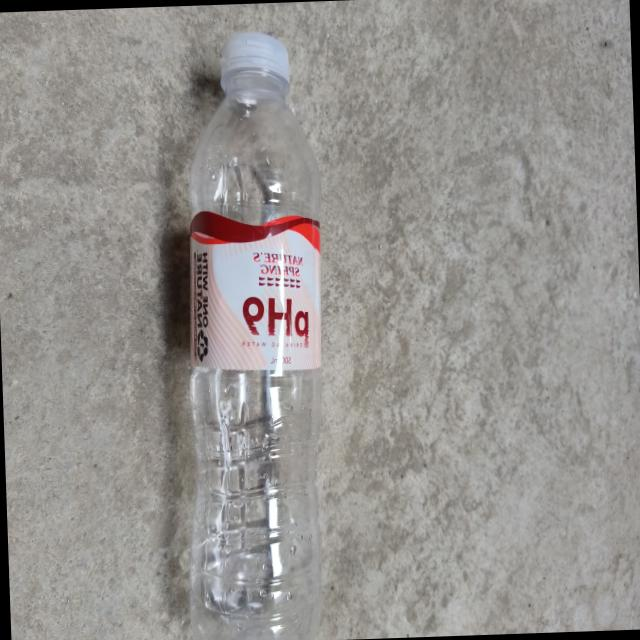Bottle: (188, 31, 320, 640)
